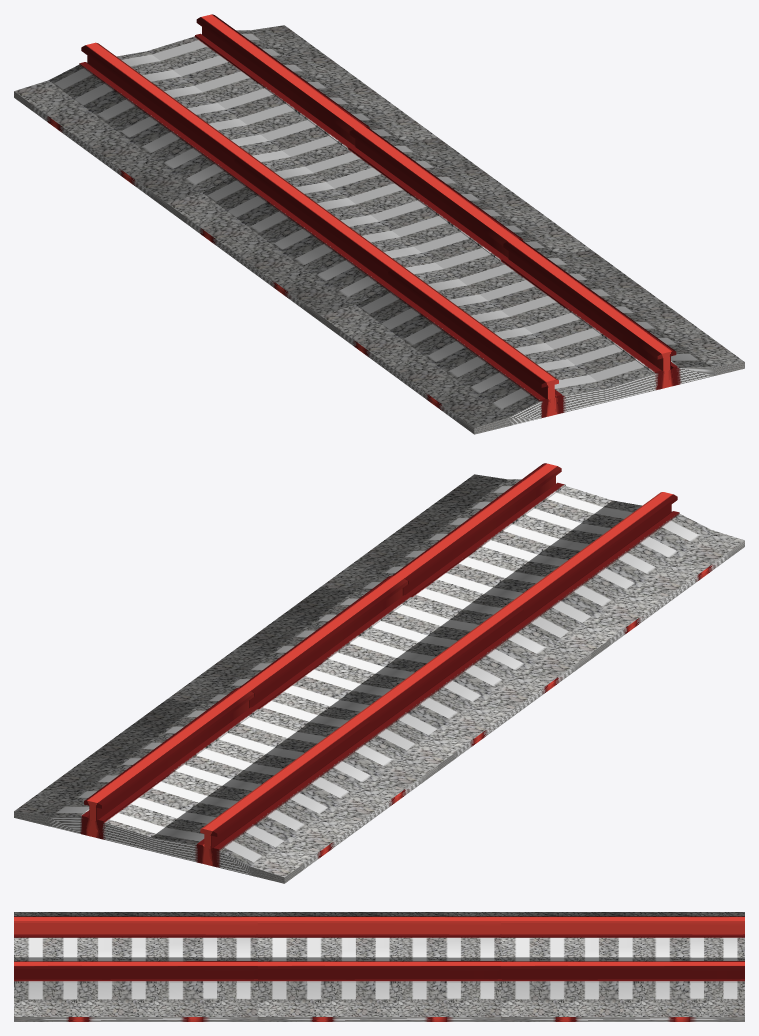
The model's file is hd_railway_track__ballast_railway_track.glb.
3 renders of one model, top to bottom at view 1: azimuth 30°, elevation 25°; view 2: azimuth 150°, elevation 25°; view 3: azimuth 270°, elevation 25°, orthographic. The views are drawn at different scales.
Visible parts, largest first — view 1: Object_3, Object_2; view 2: Object_3, Object_2; view 3: Object_3, Object_2.
Part boxes in pixels (bbox=[...]): Object_3: bbox=[14, 14, 744, 434]; Object_2: bbox=[167, 126, 590, 321]; Object_3: bbox=[14, 463, 744, 883]; Object_2: bbox=[168, 575, 591, 771]; Object_3: bbox=[14, 912, 744, 1021]; Object_2: bbox=[257, 912, 501, 1021].
Size of the model in its own units: 1.28 by 0.158 by 3.76.
2 materials, 2 textured.
